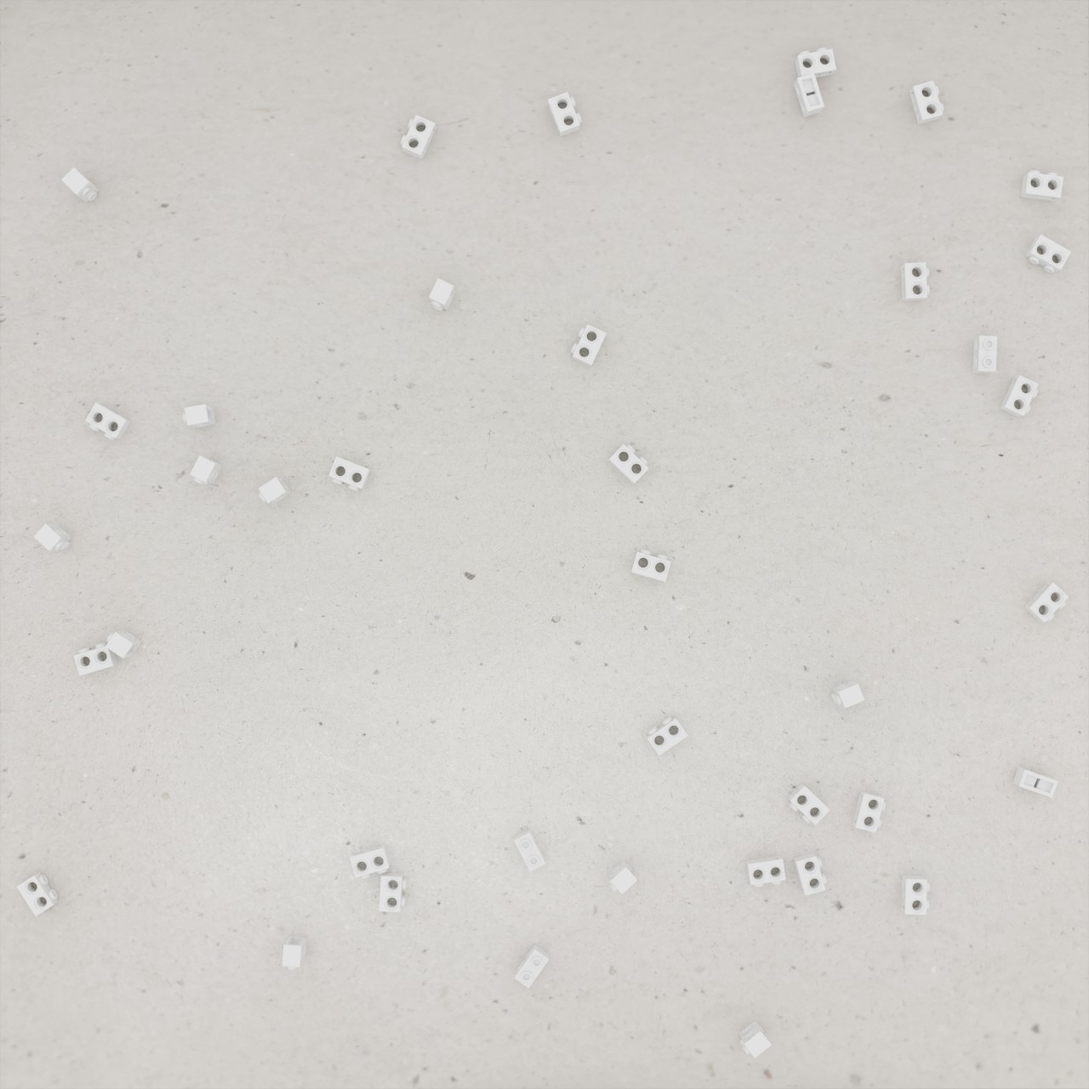lego: (16, 872, 59, 917), (1024, 582, 1069, 623), (1025, 234, 1072, 273), (787, 783, 830, 825), (85, 402, 131, 440), (646, 716, 688, 756), (999, 375, 1039, 417), (400, 115, 437, 160), (608, 444, 649, 484), (909, 80, 944, 125), (571, 324, 607, 367), (514, 944, 549, 988), (548, 92, 582, 137), (73, 643, 118, 676), (329, 456, 371, 491), (349, 844, 391, 879), (793, 853, 827, 896), (852, 791, 886, 833), (1020, 170, 1064, 202), (1013, 767, 1058, 798), (794, 73, 825, 118), (514, 829, 546, 872), (61, 167, 99, 203), (795, 48, 836, 81), (631, 549, 671, 582), (739, 1020, 772, 1058), (746, 856, 786, 887), (901, 875, 930, 915), (901, 262, 930, 301), (379, 872, 407, 912), (33, 523, 72, 551), (608, 860, 638, 895), (105, 630, 142, 658), (190, 455, 223, 485), (972, 336, 997, 374), (831, 681, 865, 708), (258, 477, 292, 504), (429, 278, 456, 311), (282, 936, 307, 970), (183, 404, 216, 428)
